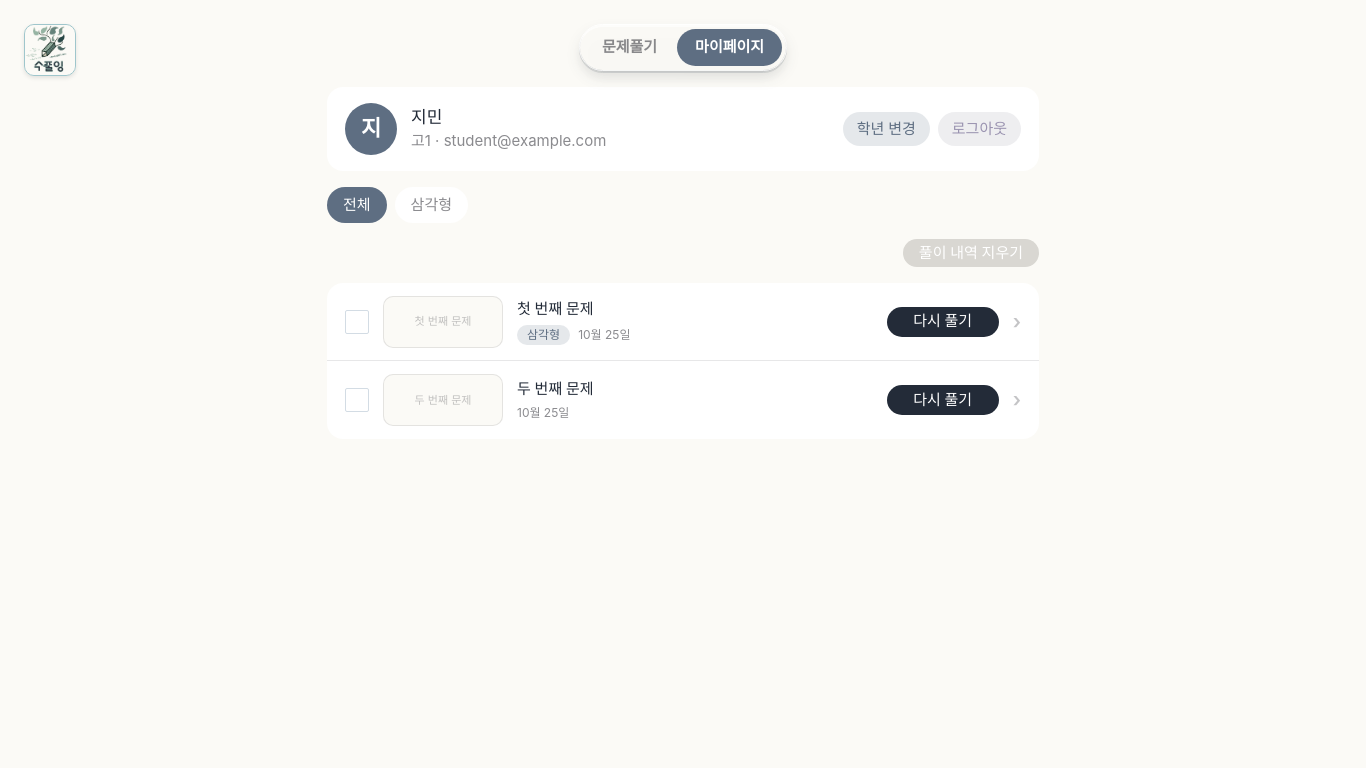
Test: RS12 포커스·inert › 클릭으로 포커스가 행에 가지 않는 환경(Safari, activeElement=body)에서도 연 행의 상세 버튼으로 복귀
This screenshot has width=1366, height=768.
Step 1. Click the button "두 번째 문제 두 번째 문제 10월 25일" → click(443, 400), box [383,374,873,426]
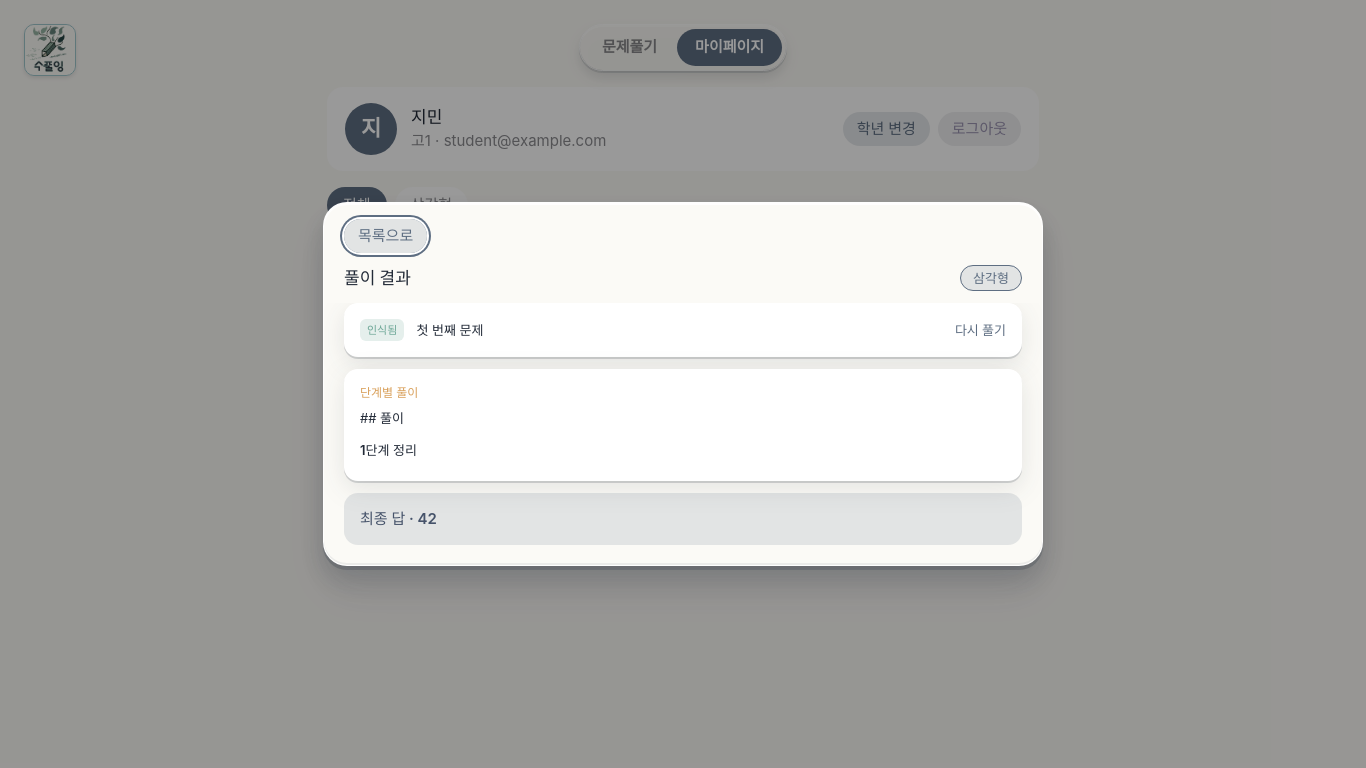
Step 2. Click the button "목록으로" → click(386, 236), box [344,219,427,253]
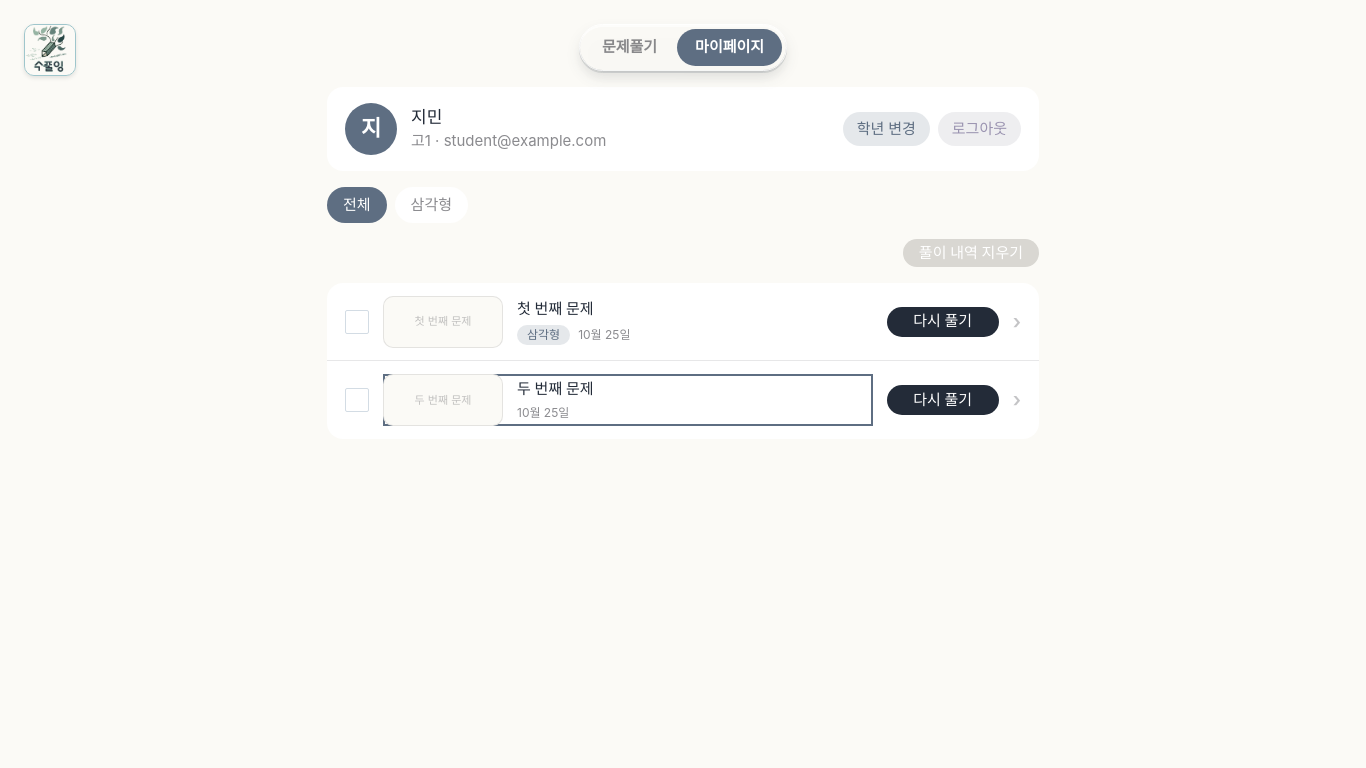
Expected: the dialog is gone
